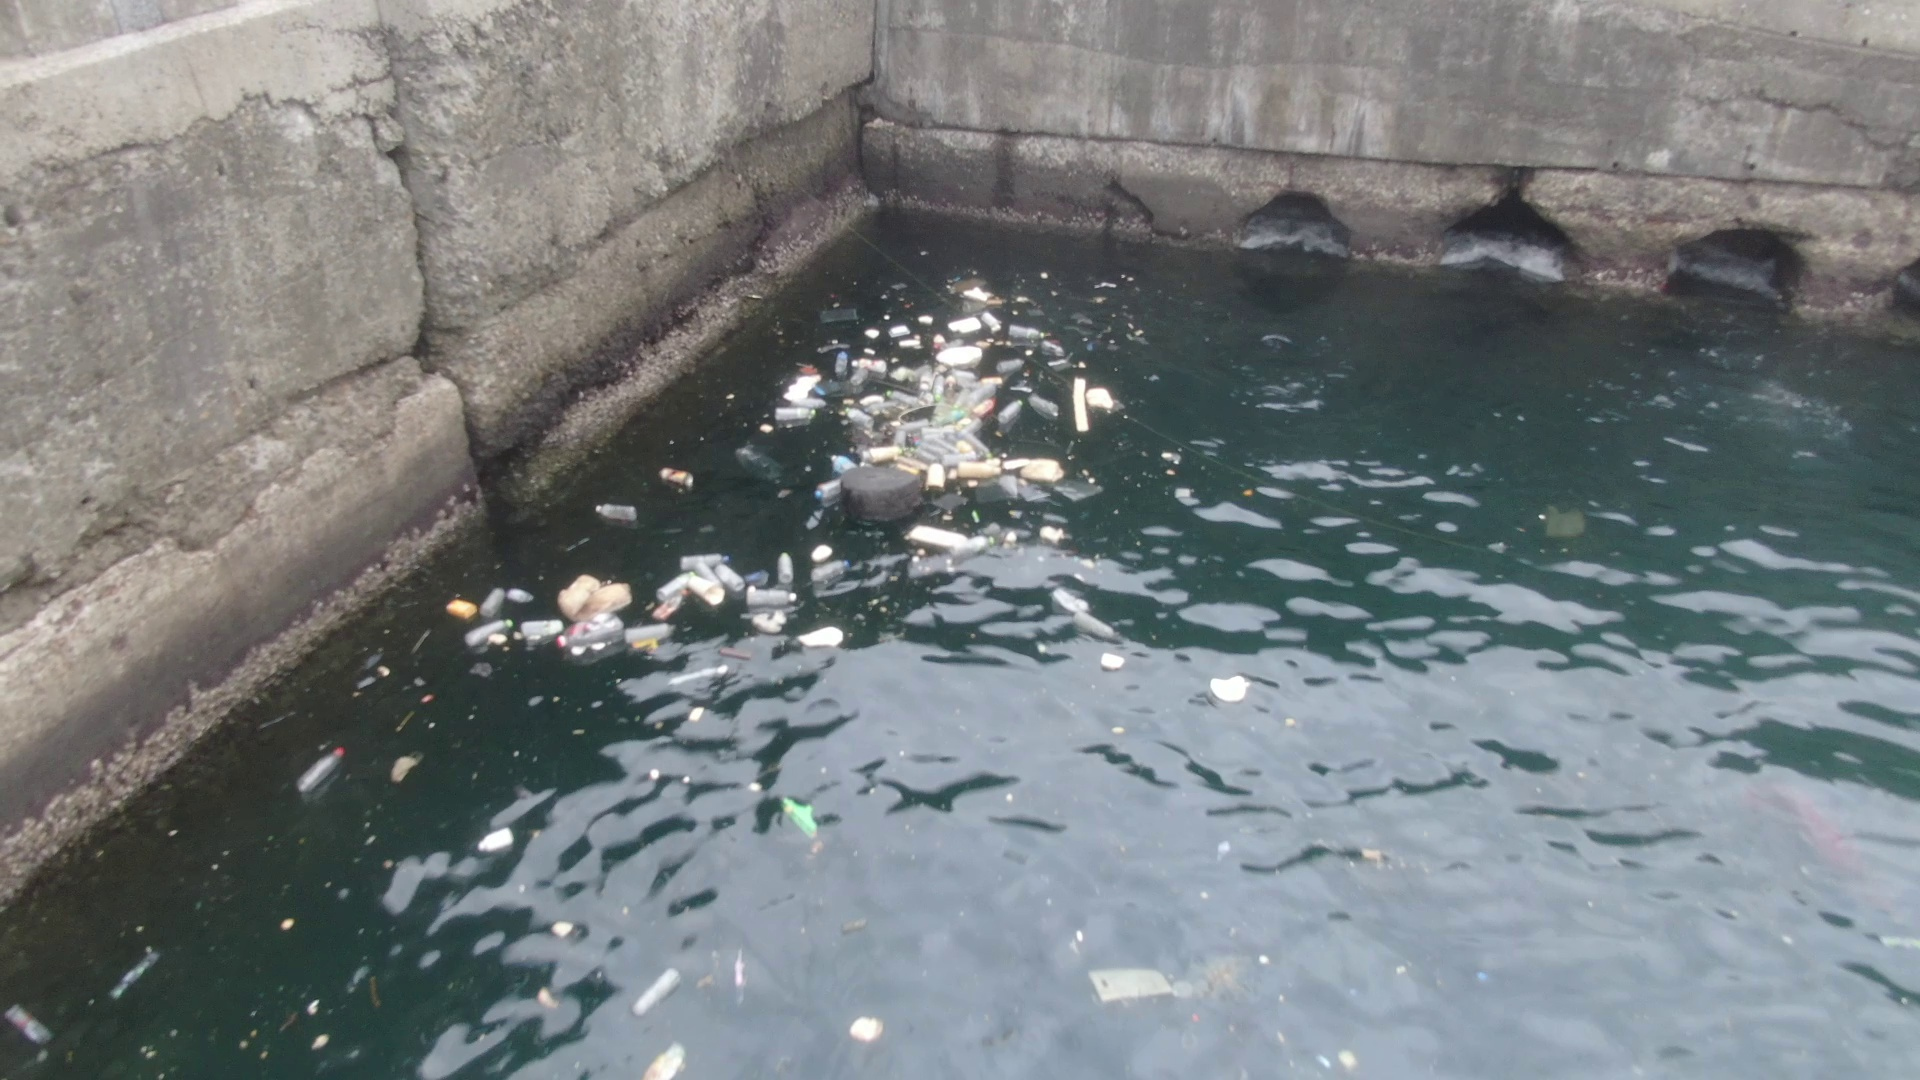bottle: (282, 745, 357, 793), (559, 617, 634, 658), (591, 491, 646, 531), (459, 613, 521, 647), (738, 585, 803, 615), (650, 460, 702, 495), (684, 549, 732, 574)
garbage: (793, 243, 1156, 568), (423, 551, 943, 702), (634, 965, 918, 1080), (1075, 949, 1215, 1013), (1054, 585, 1143, 649), (1211, 665, 1261, 713)
